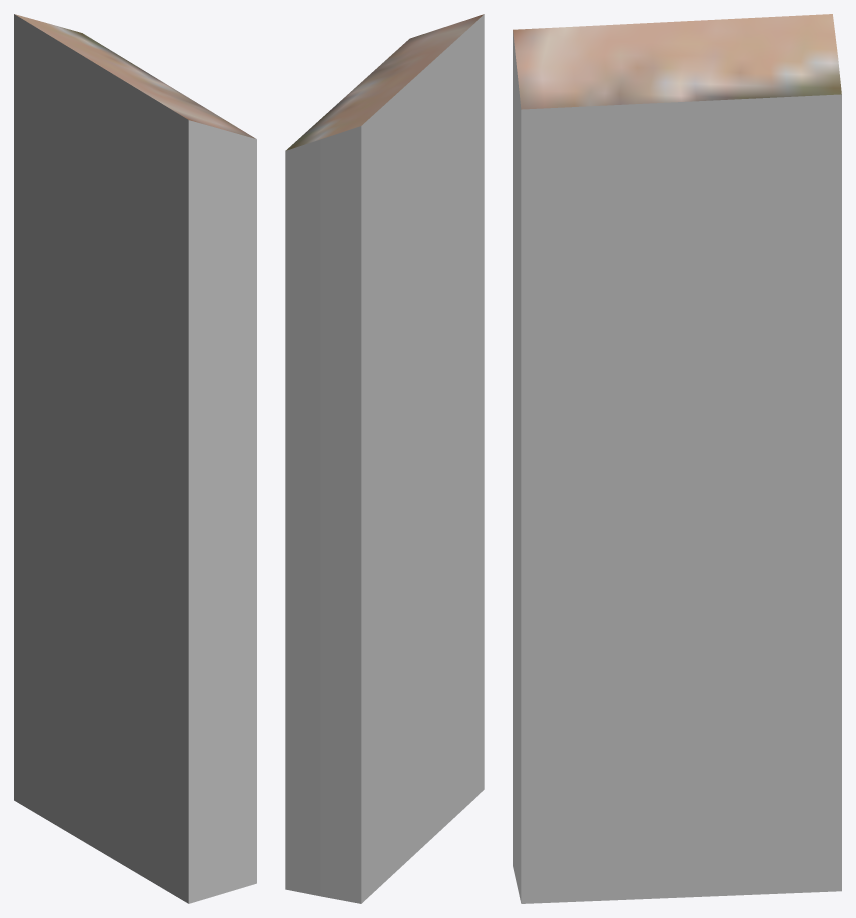
The model's file is DEBW_0010007TI09.gltf.
3 views of the same model, side by side, from view 1: azimuth 30°, elevation 25°; view 2: azimuth 150°, elevation 25°; view 3: azimuth 270°, elevation 25° (orthographic). The views are drawn at different scales.
Visible parts, largest first — view 1: Z_UP; view 2: Z_UP; view 3: Z_UP.
Part boxes in pixels (bbox=[...]): Z_UP: bbox=[14, 14, 256, 903]; Z_UP: bbox=[285, 14, 484, 903]; Z_UP: bbox=[513, 14, 841, 903].
Size of the model in its own units: 1.59 by 12.31 by 4.37.
2 materials, 1 textured.
